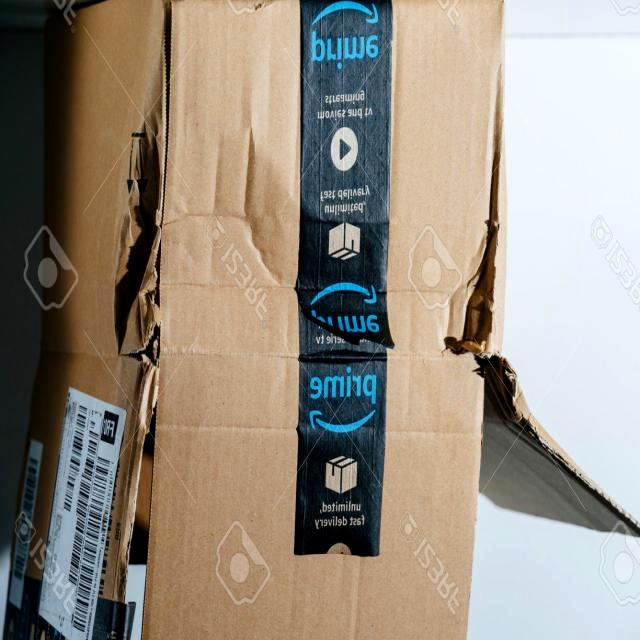cut: (445, 71, 501, 354), (115, 89, 163, 362), (115, 211, 158, 349)
deform: (21, 0, 506, 639)
